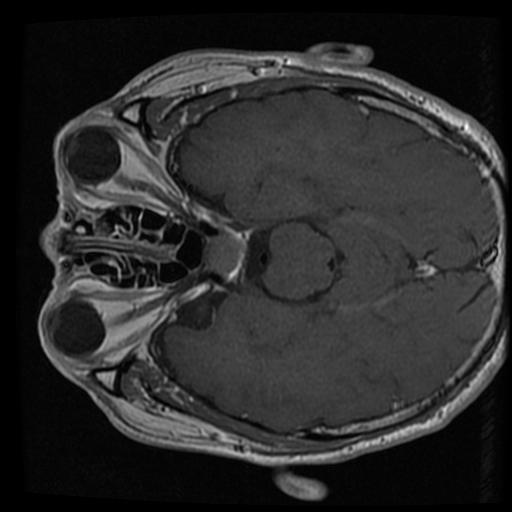pituitary tumour: (200, 231, 246, 282)
